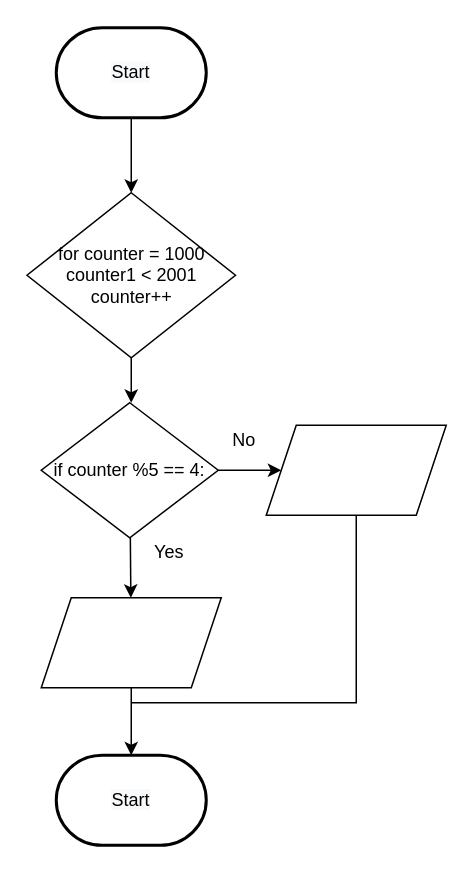
Image size: 473x872. Some labels were removed from this diagram. Here are the shapes that lost their labels. From the top down, the box of each, then its label:
(265, 424, 446, 515): print("ed = ")
(40, 596, 221, 688): print("counter")
